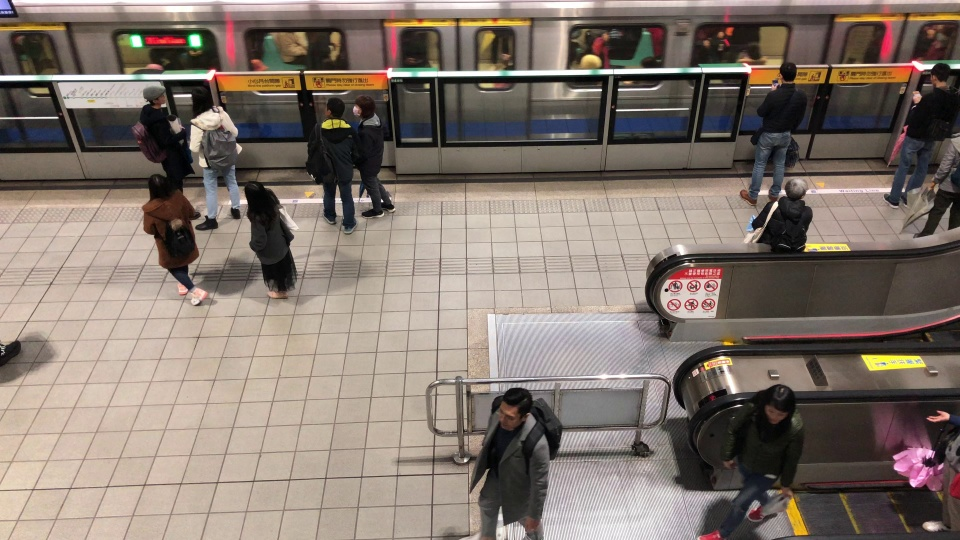person_head: (497, 387, 533, 431), (762, 383, 796, 428), (926, 63, 954, 95), (782, 176, 809, 203), (145, 175, 173, 200), (242, 179, 266, 204), (323, 97, 347, 121), (352, 95, 376, 118), (141, 85, 166, 107), (191, 89, 212, 112), (779, 62, 798, 86)
person_vbox: (691, 383, 805, 540), (465, 387, 562, 540), (883, 62, 960, 210), (127, 174, 209, 305), (890, 401, 960, 537), (738, 61, 802, 208), (184, 88, 244, 231), (301, 97, 359, 236), (237, 178, 299, 301), (128, 85, 195, 197), (348, 93, 396, 220), (738, 176, 815, 255), (909, 121, 960, 237)
